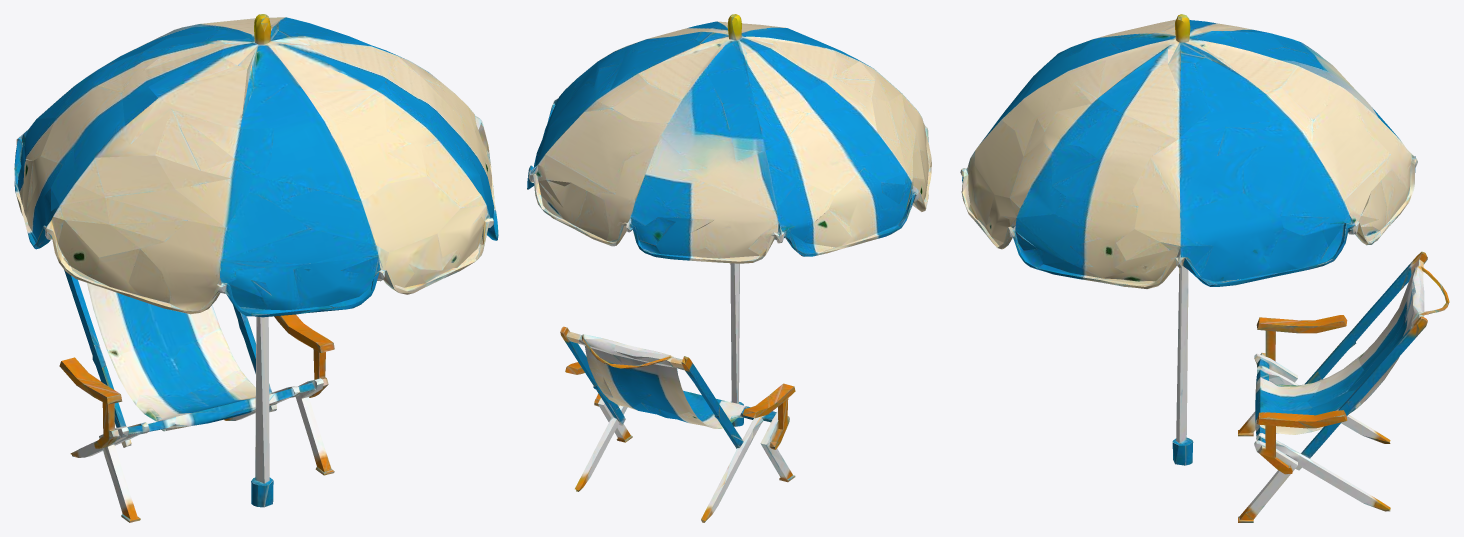
The model's file is umbrella.glb.
3 views of the same model, side by side, from view 1: azimuth 30°, elevation 25°; view 2: azimuth 150°, elevation 25°; view 3: azimuth 270°, elevation 25° (orthographic). The views are drawn at different scales.
Bounding box in the file's own units: 1.72 × 1.9 × 1.82.
Materials: 1 (1 with a texture image).
